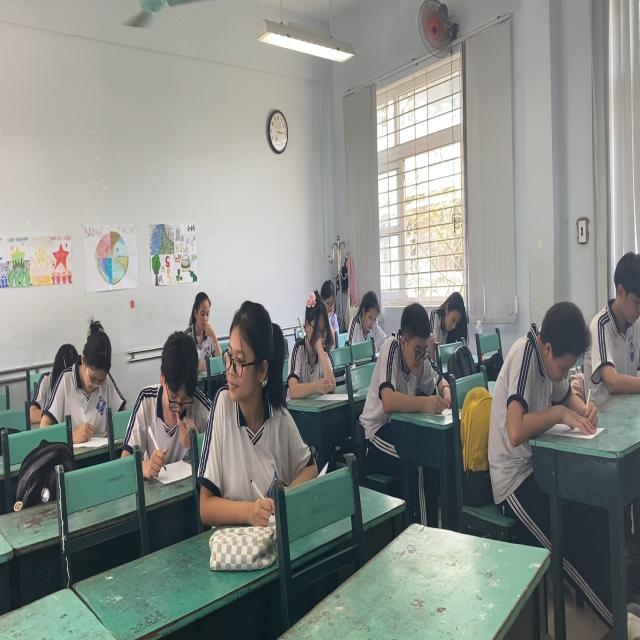cheating: (217, 295, 291, 478)
not_cheating: (494, 298, 587, 416), (128, 333, 215, 439), (47, 309, 117, 419), (594, 242, 640, 395), (391, 302, 437, 413), (293, 298, 336, 396), (424, 288, 472, 347), (185, 288, 218, 354), (348, 284, 384, 344)
